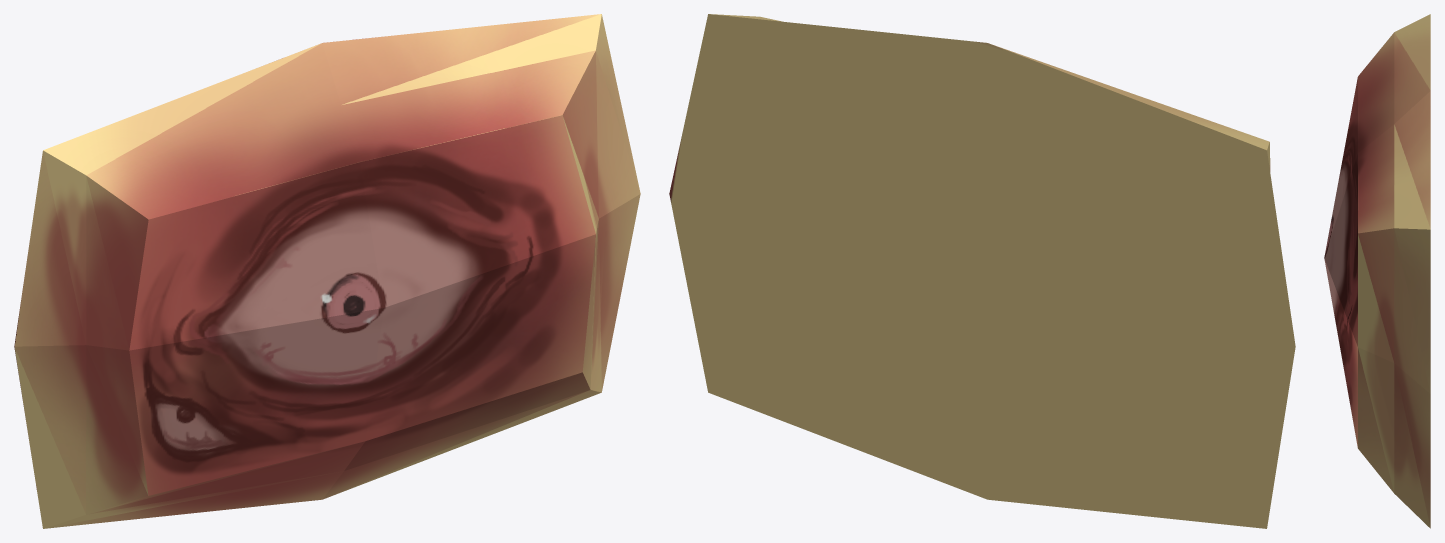
File: BigEye.fbx
3 renders of one model, left to right at view 1: azimuth 30°, elevation 25°; view 2: azimuth 150°, elevation 25°; view 3: azimuth 270°, elevation 25°, orthographic. The views are drawn at different scales.
Parts seen in each view (by area): view 1: Cube; view 2: Cube; view 3: Cube.
Part boxes in pixels (bbox=[...]): Cube: bbox=[14, 14, 640, 528]; Cube: bbox=[669, 14, 1295, 528]; Cube: bbox=[1324, 14, 1430, 528].
Size of the model in its own units: 150 by 104 by 27.84.
